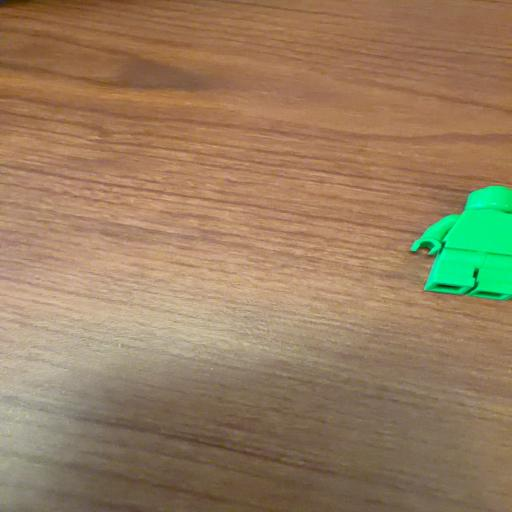UnoQ-minifig-detector: (411, 186, 512, 301)
